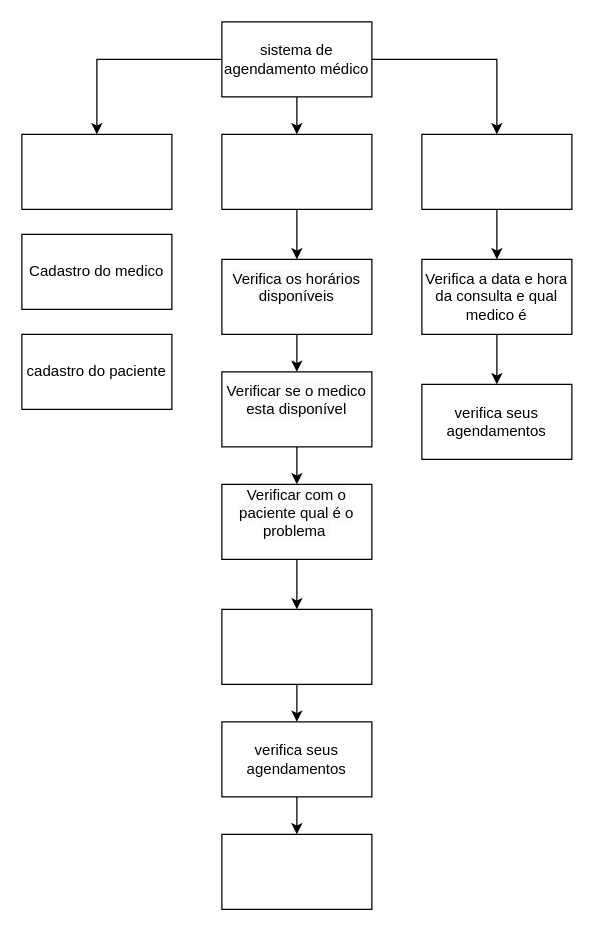
This 594x931 diagram has some shape labels left out. The centre of each missing label's shape, as x and y in pixels:
Atendimento do paciente: the point at 296,646
cadastro: the point at 96,171
faz o agendamento: the point at 296,871
processo: the point at 296,171
relatórios e consultas: the point at 496,171
